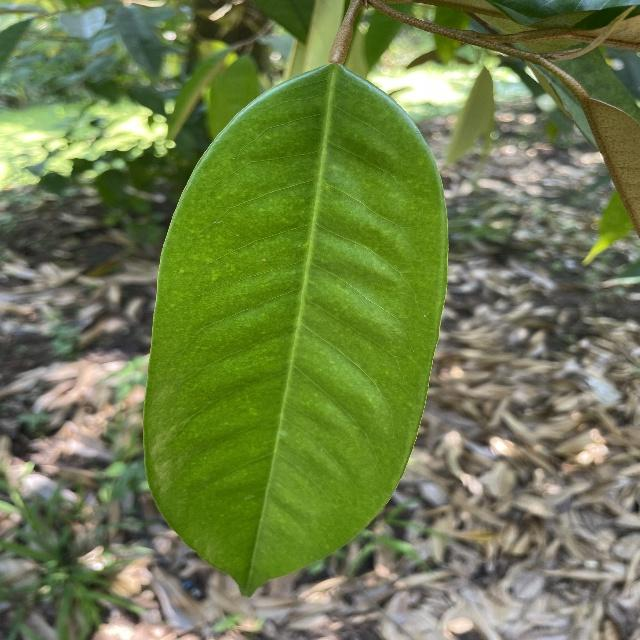No Disease: (129, 57, 453, 599)
